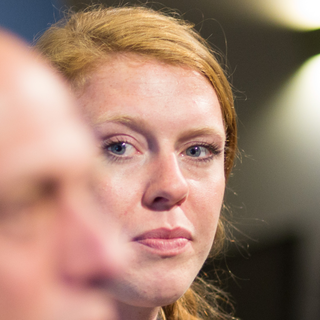eye: (96, 132, 146, 164), (176, 135, 221, 166)
